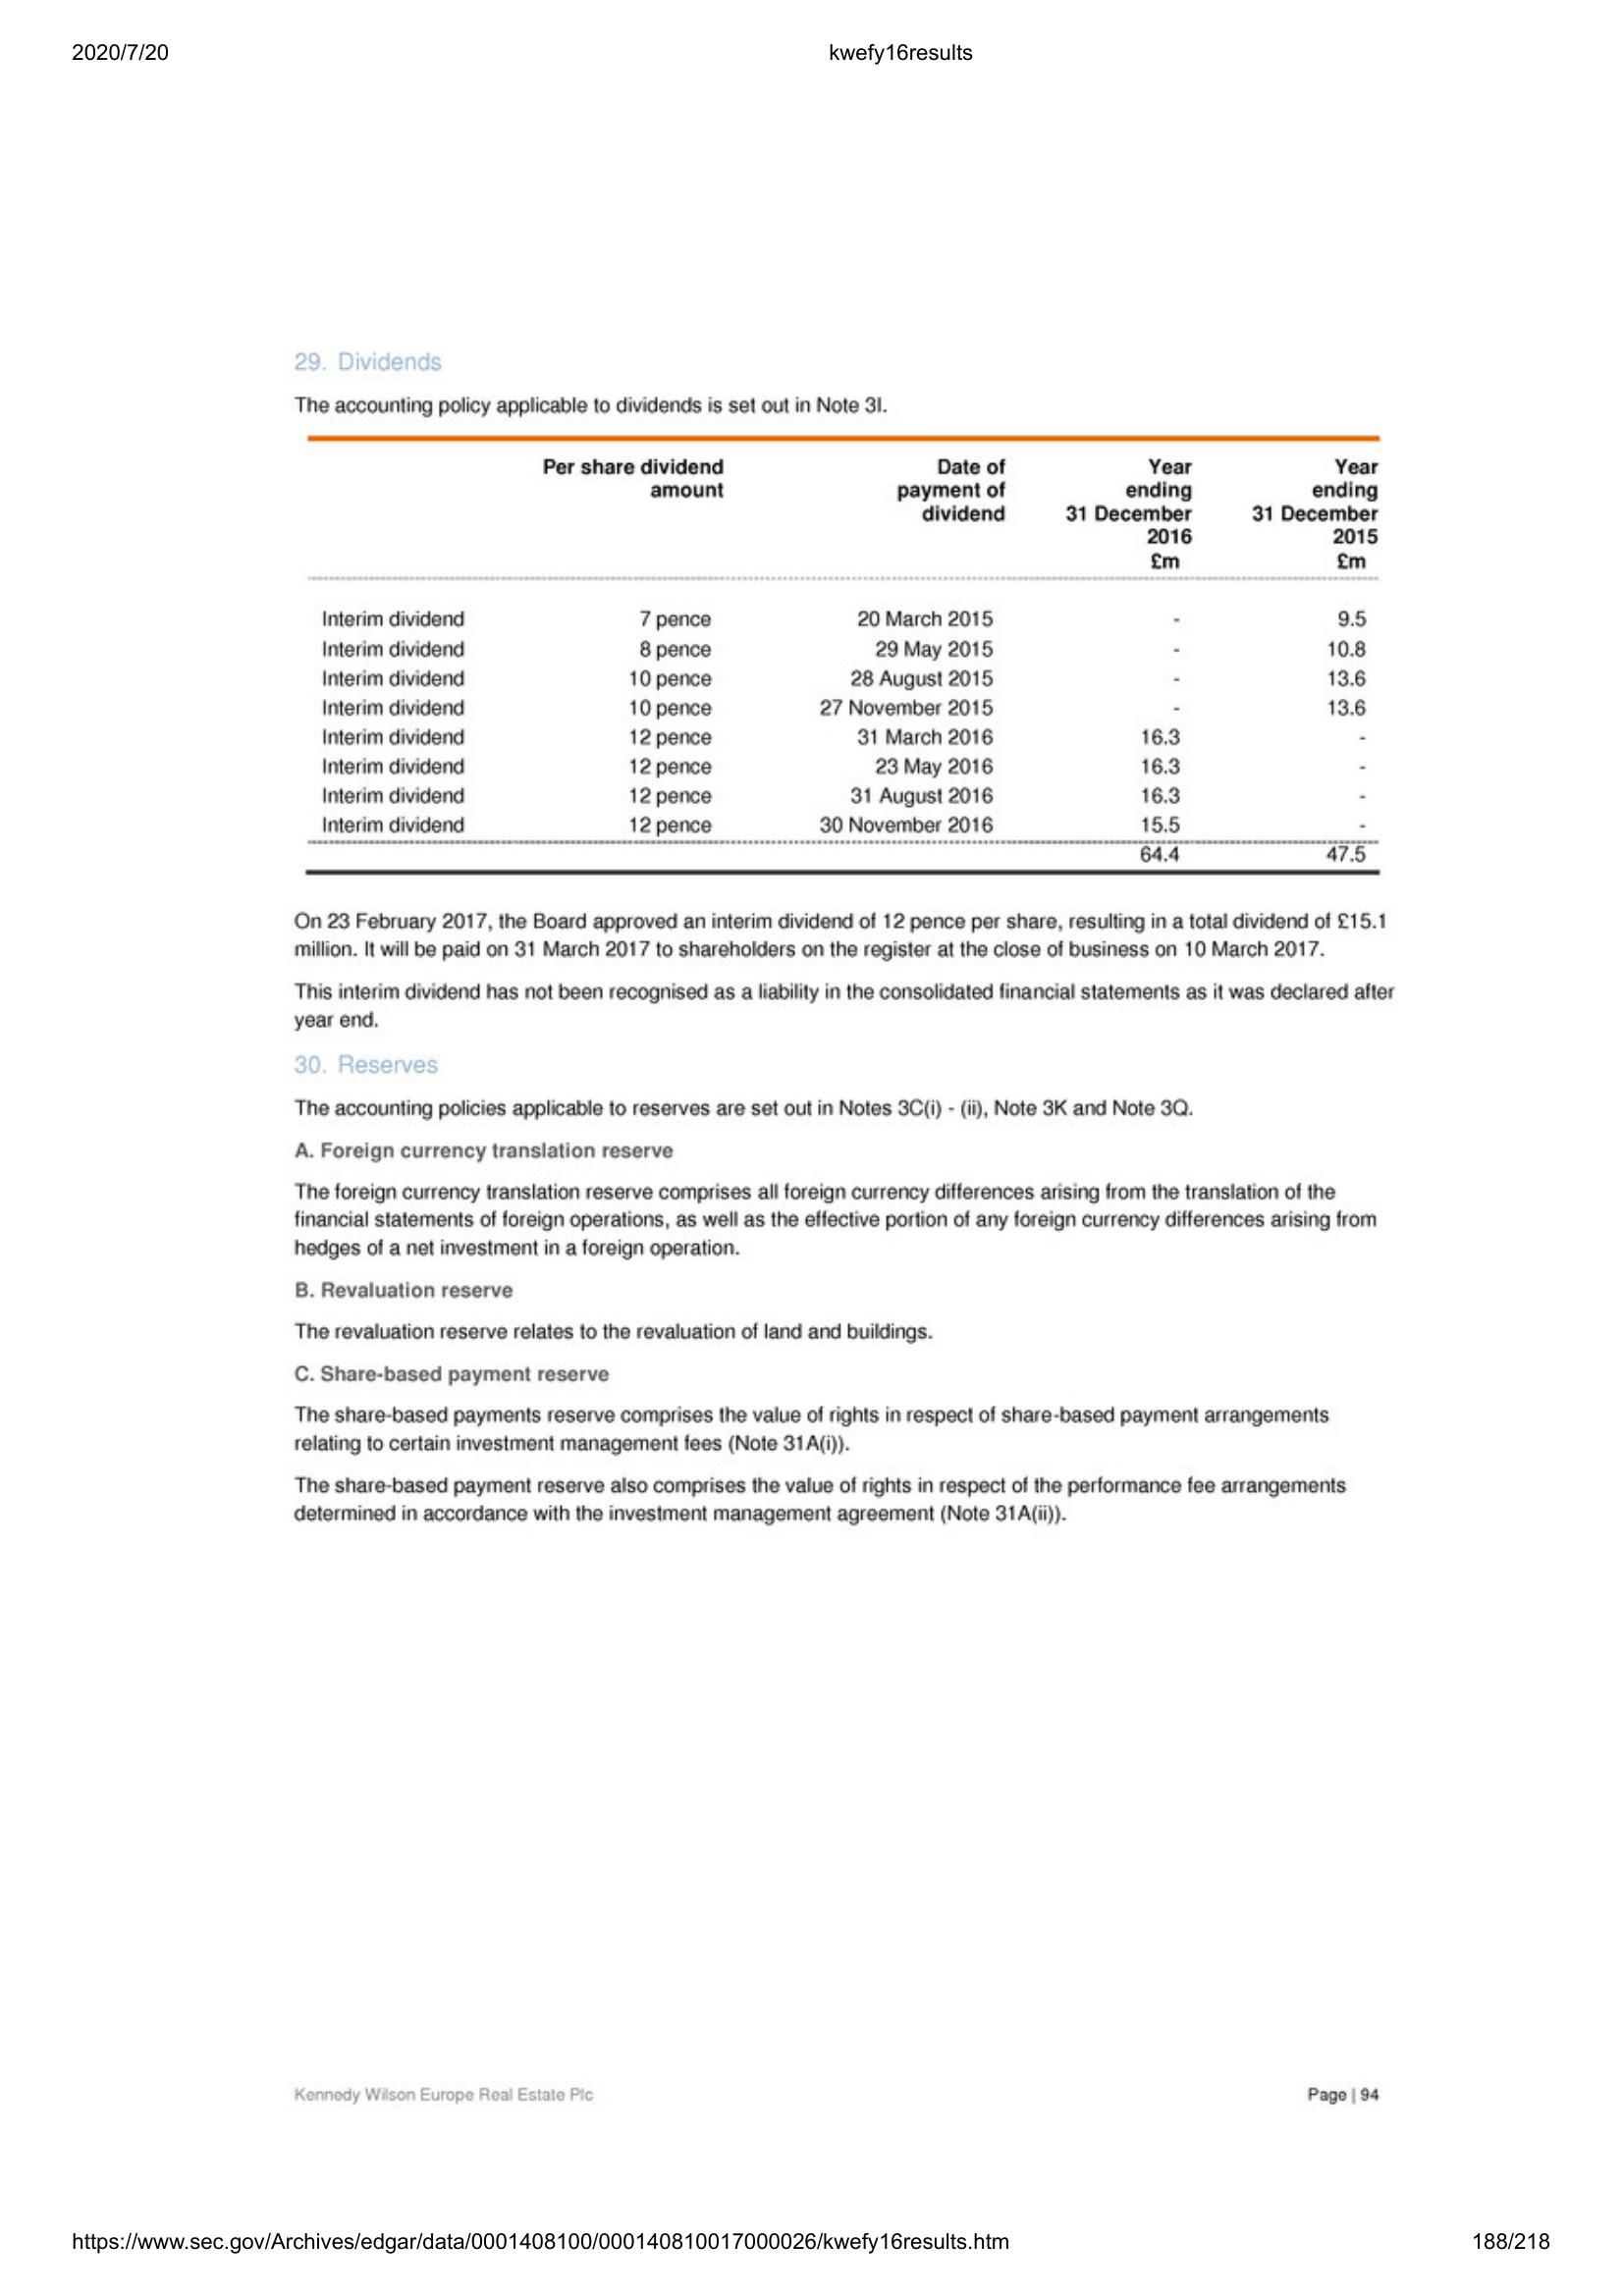table: (293, 428, 1391, 881)
